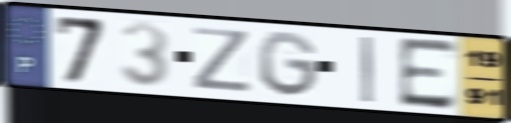3: (118, 18, 171, 91)
7: (54, 13, 106, 85)
E: (396, 36, 460, 113)
G: (256, 29, 321, 100)
I: (359, 34, 376, 106)
Z: (190, 25, 255, 94)
